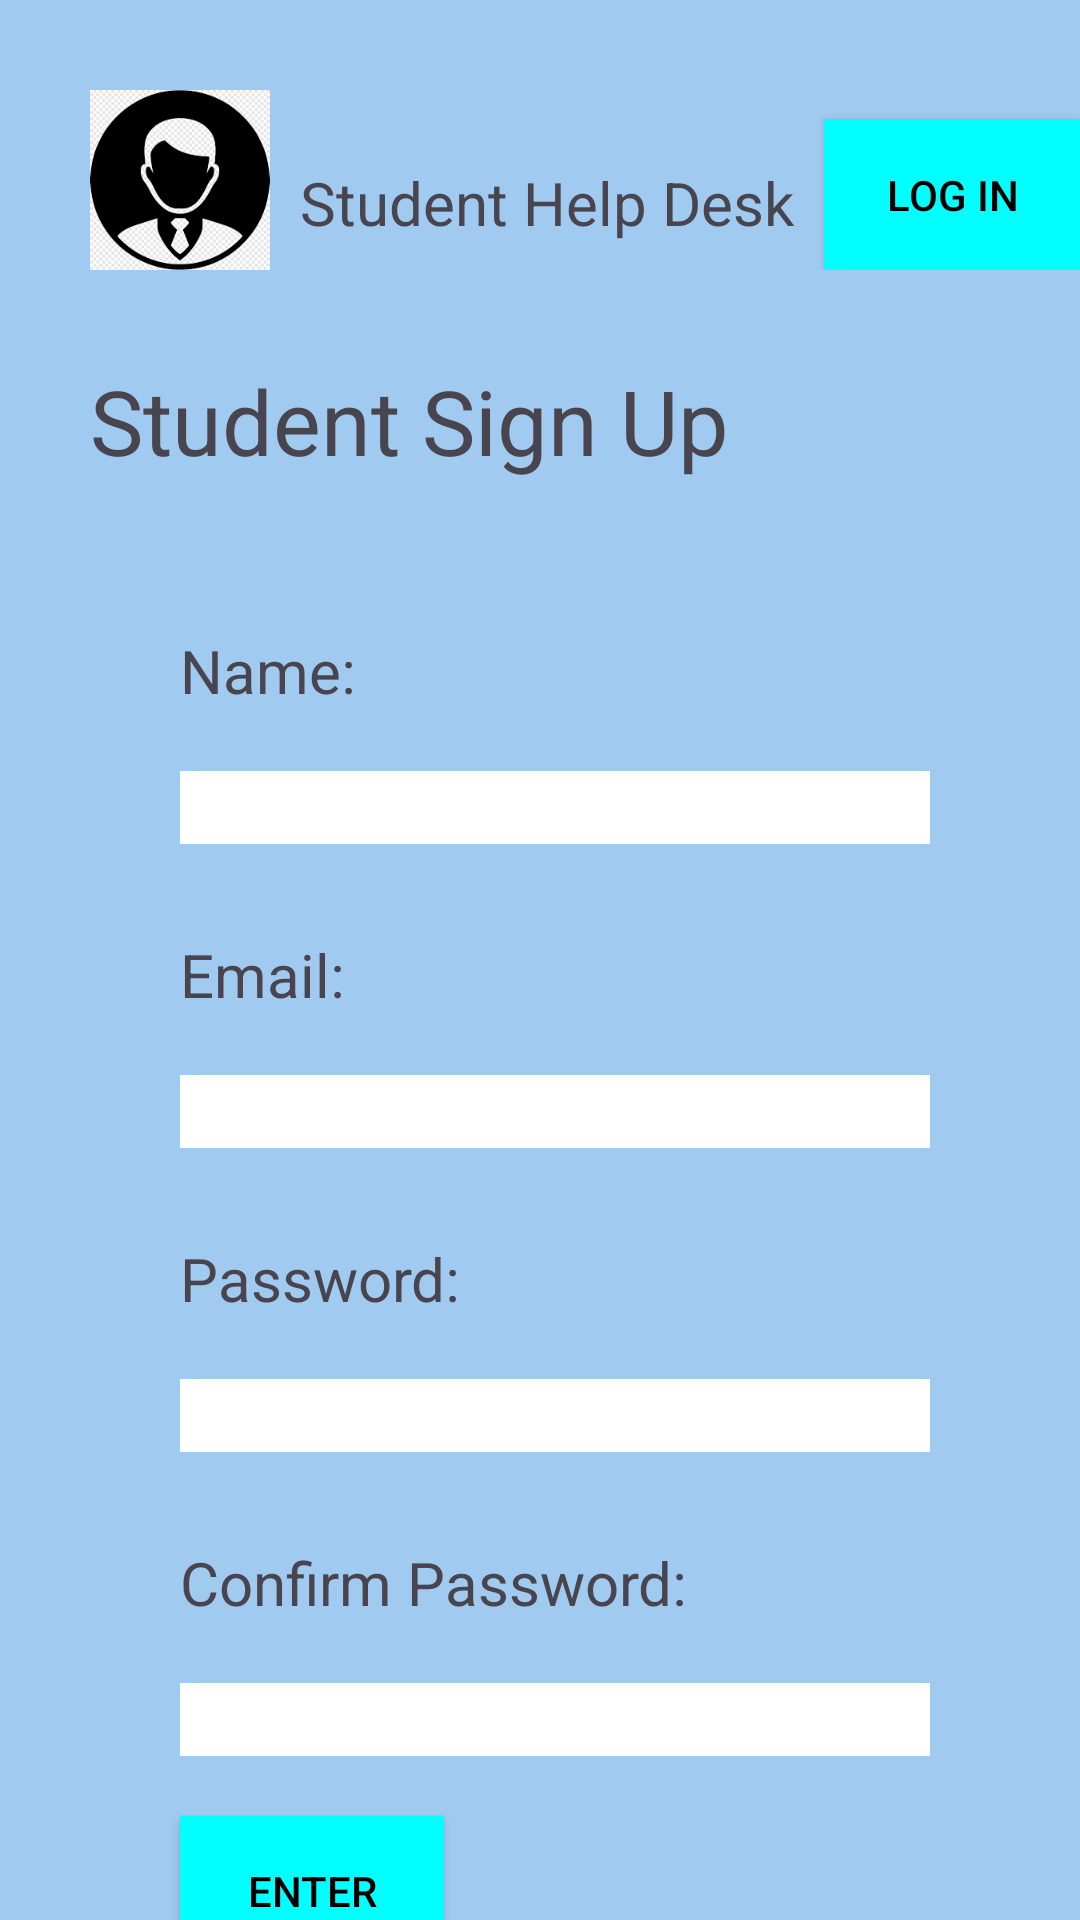

Screen size 1080w x 1920h. Icon name, then its center in pixels as [x,y]:
profile: [180,180]
